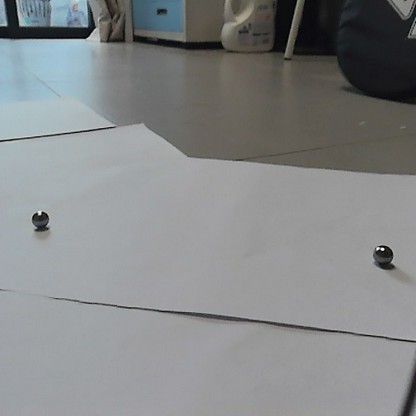ironball: (369, 242, 393, 265), (29, 207, 49, 229)
